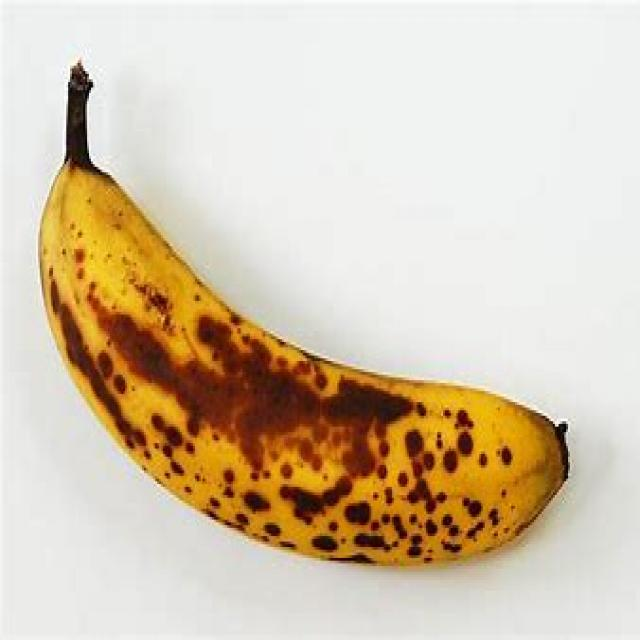Banana: (33, 66, 574, 575)
